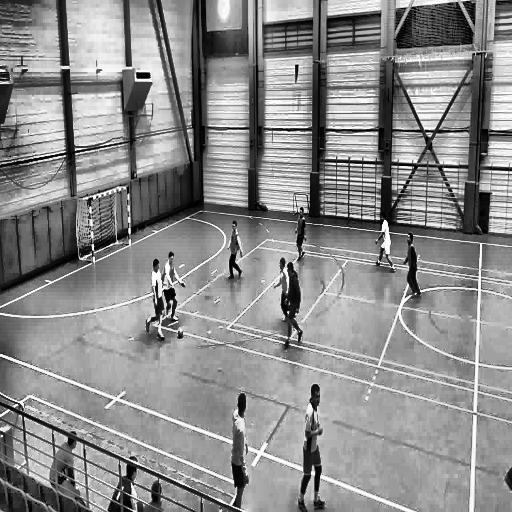ball: (176, 326, 186, 342)
player: (297, 382, 326, 512), (232, 392, 249, 512), (145, 257, 166, 344), (162, 249, 185, 323), (285, 262, 303, 352), (402, 230, 422, 300), (375, 212, 396, 275), (272, 254, 290, 323), (227, 220, 243, 284), (294, 206, 306, 264)
